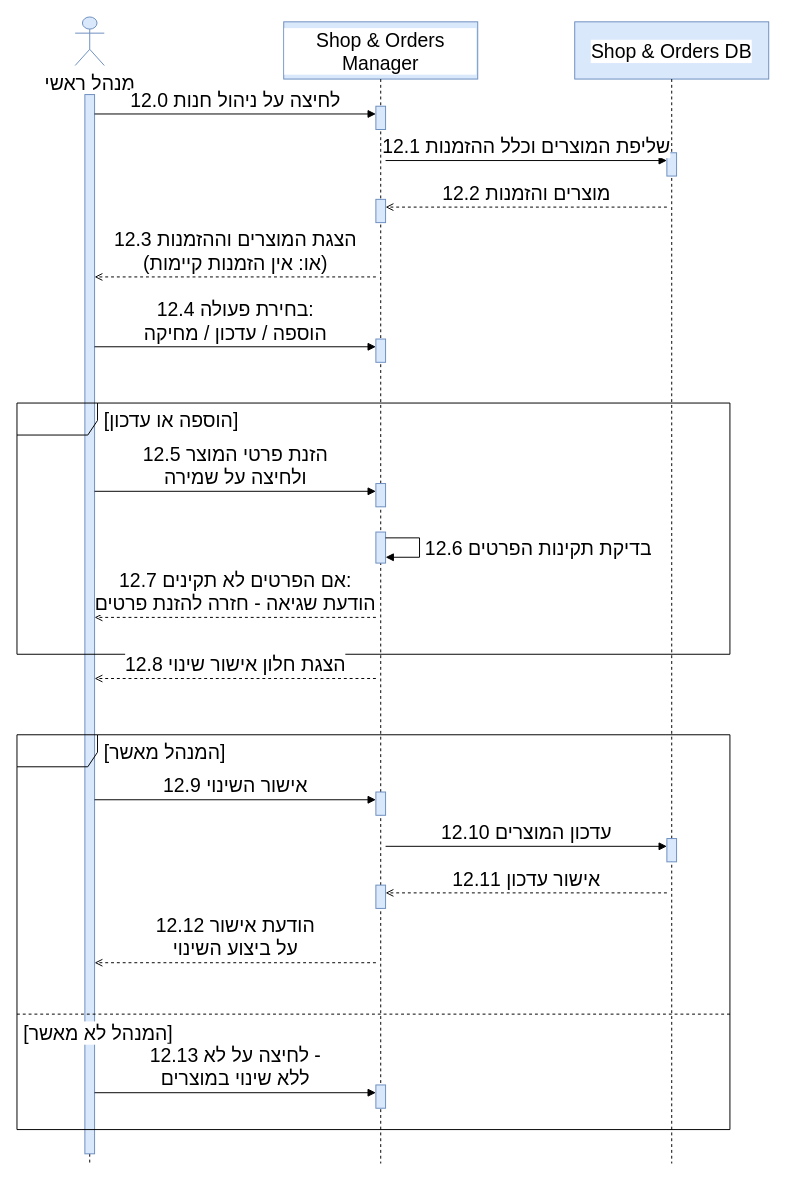
Some shapes in this 786 by 1181 pixel diagram are drawn without their labels. The box of each missing label's shape, as (x1, y1, x2, y2) in pixels:
alt: (16, 734, 730, 1130)
opt: (16, 402, 730, 654)
